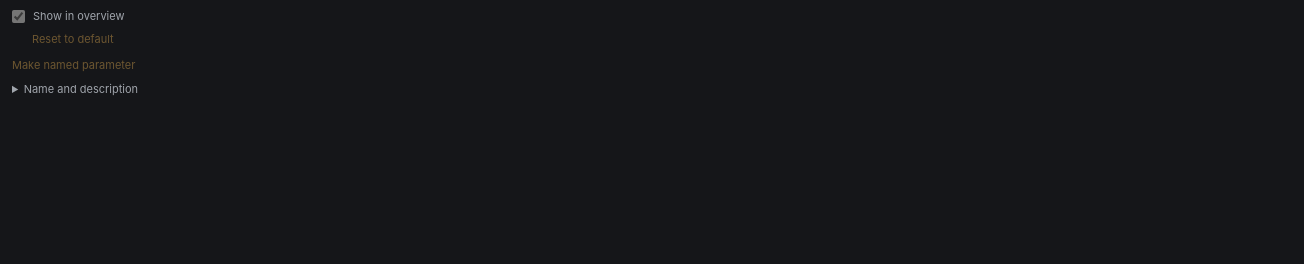
Test: source-owned authoring properties › blocks every metadata action while Apply or Revert the source draft.
This screenshot has width=1304, height=264.
Click the heading "Name and description".
click(81, 89)  # box left=24, top=82, right=138, bottom=96
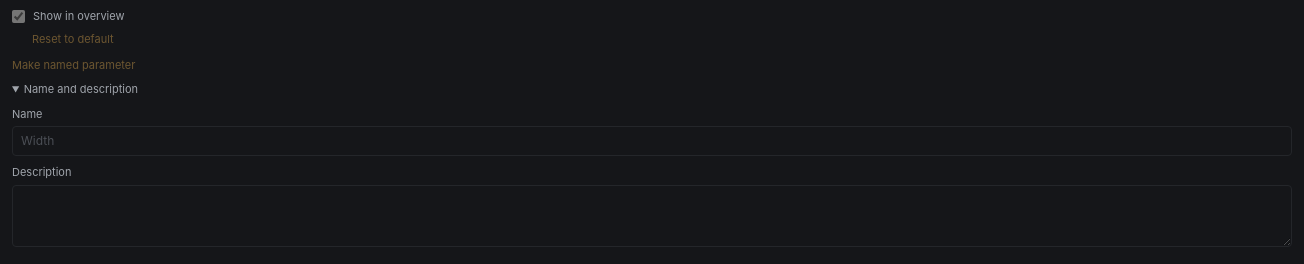
Expected: the checkbox is disabled, left=12, top=10, right=25, bottom=23
Now the field named "Width name" is disabled, box left=12, top=126, right=1292, bottom=156
